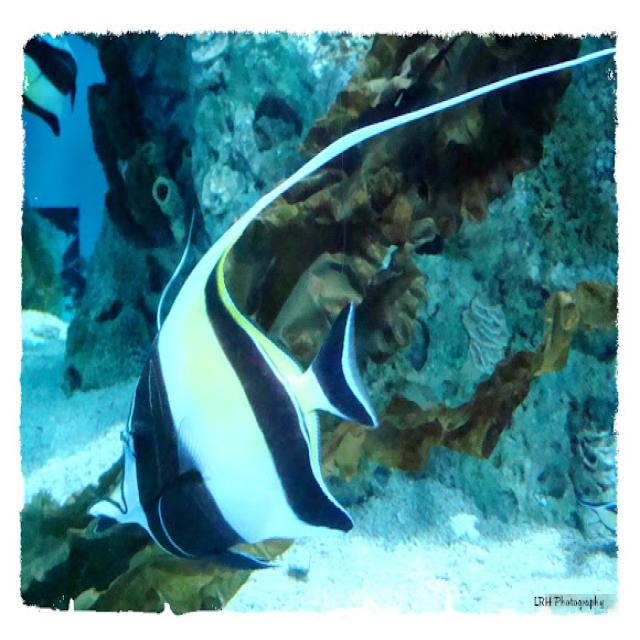MorishIdol: (86, 42, 611, 573)
